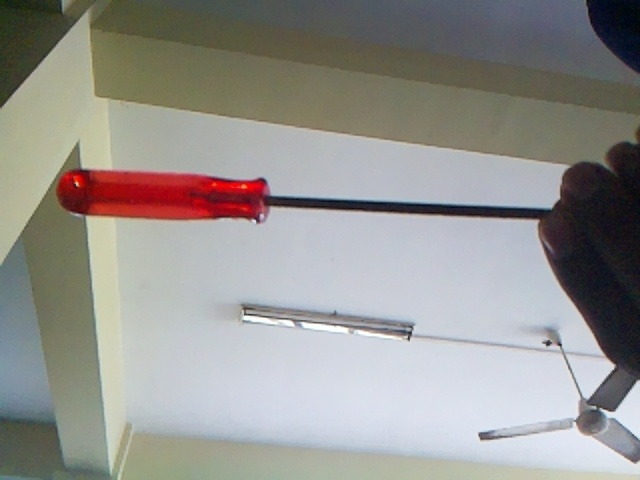redskrew: (62, 167, 544, 232)
